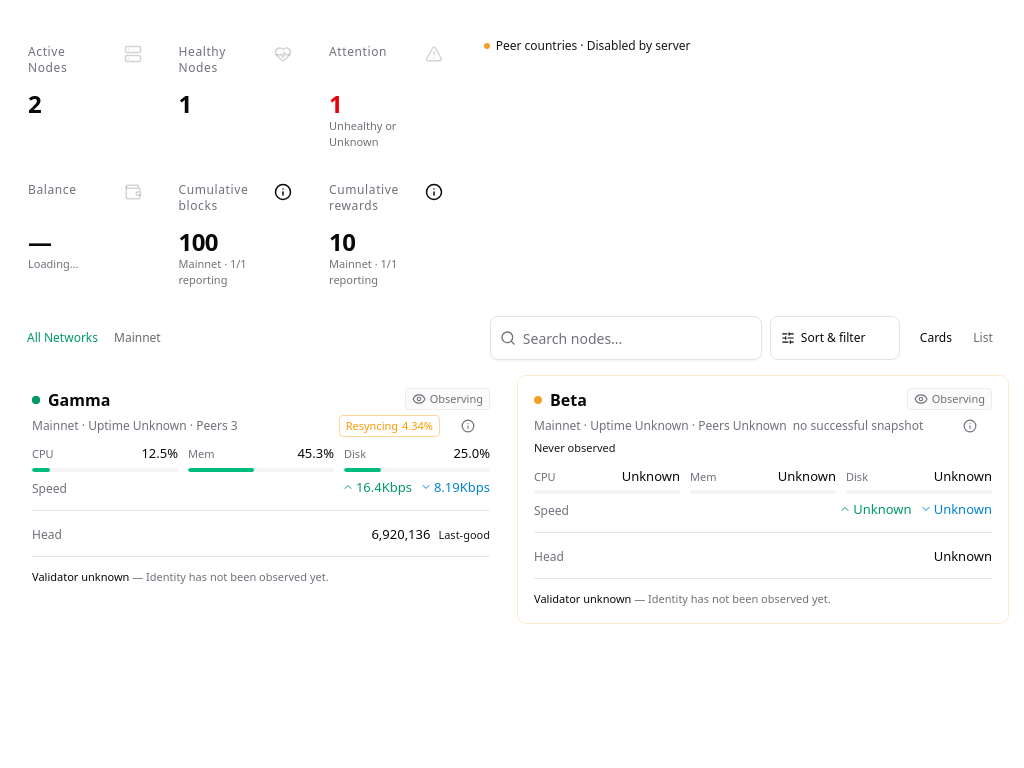
it: Public Home dashboard › keeps health diagnostics separate from structured resync progress
The width and height of the screenshot is (1024, 768).
Expected: the text "Never observed" is shown, [534,440,616,455]
Expected: the text "Peers Unknown" is shown, [698,417,787,434]
Click the button with aria-label "Resync progress: 4.34% toward the Historical High-Water Mark". click: click(389, 426)
box: [339,404,440,448]
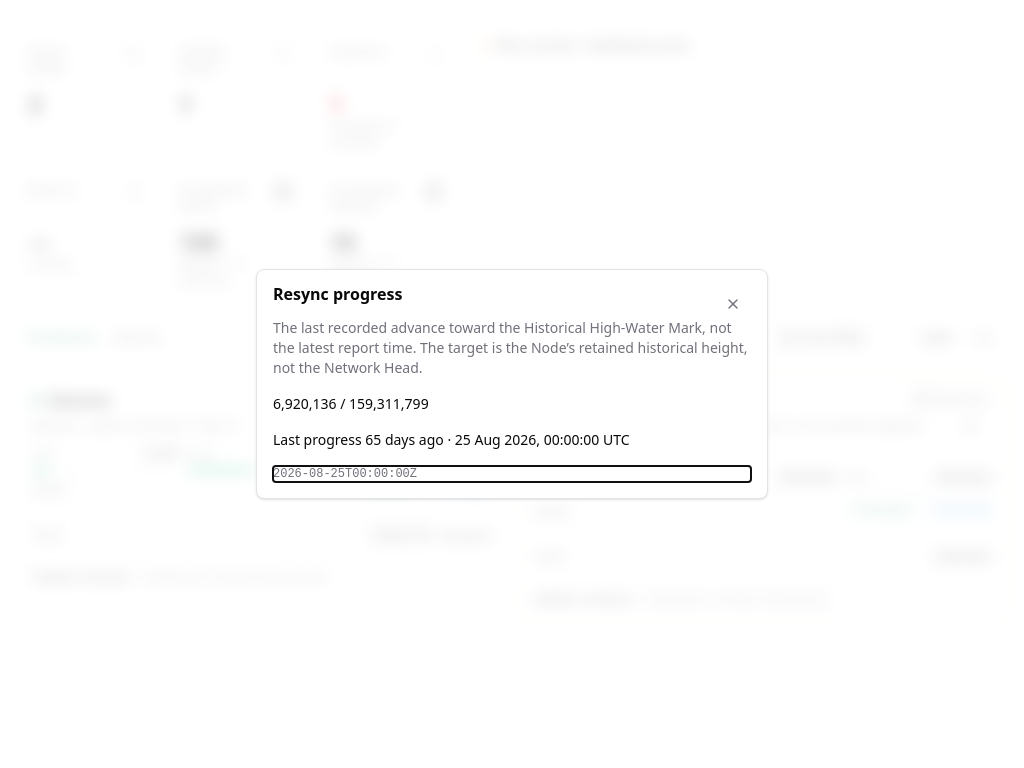
Expected: the text "6,920,136 / 159,311,799" is shown, [273,394,429,413]
Expected: the text "Last progress 65 days ago · 25 Aug 2026, 00:00:00 UTC" is shown, [273,430,630,449]
Expected: the dialog "Resync progress" shows "not the latest report time", [273,318,748,377]
